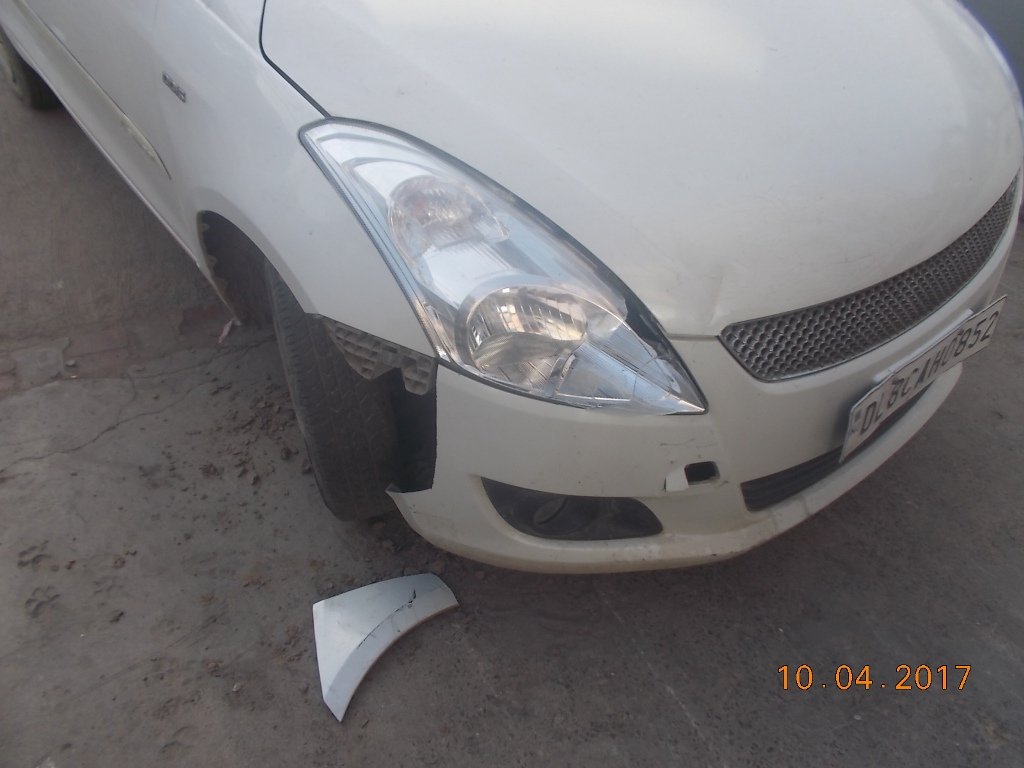Tear: (411, 351, 469, 547)
